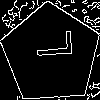L: (26, 29, 73, 60)
